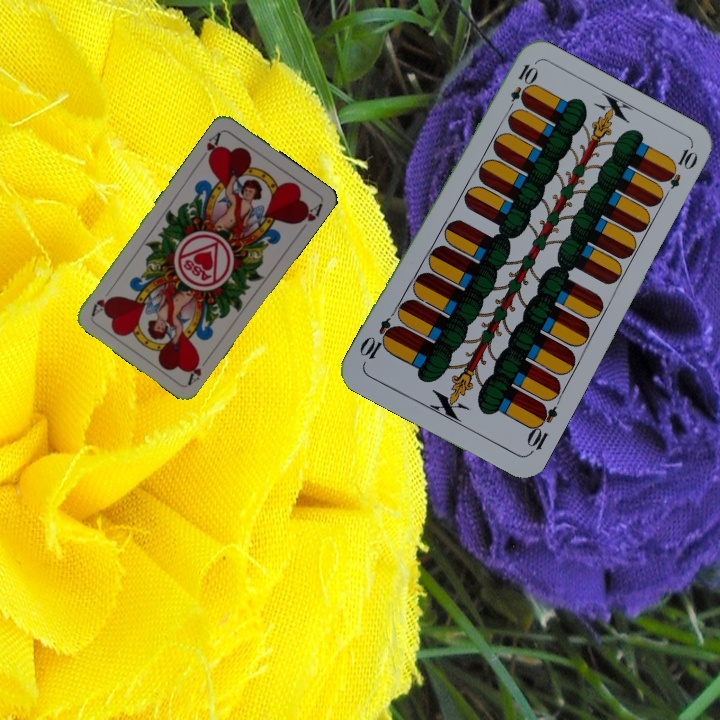E10: (522, 399, 560, 457), (502, 60, 539, 117)
HA: (184, 351, 213, 387), (202, 127, 225, 165)
